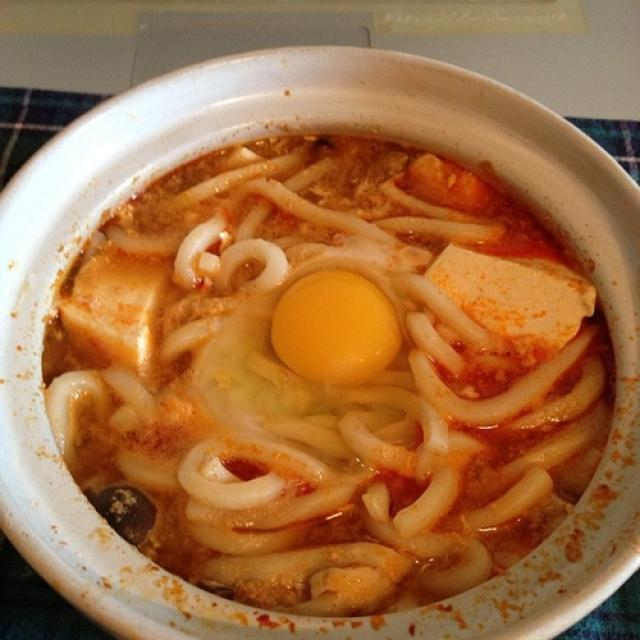汤锅炖物: (1, 47, 627, 626)
